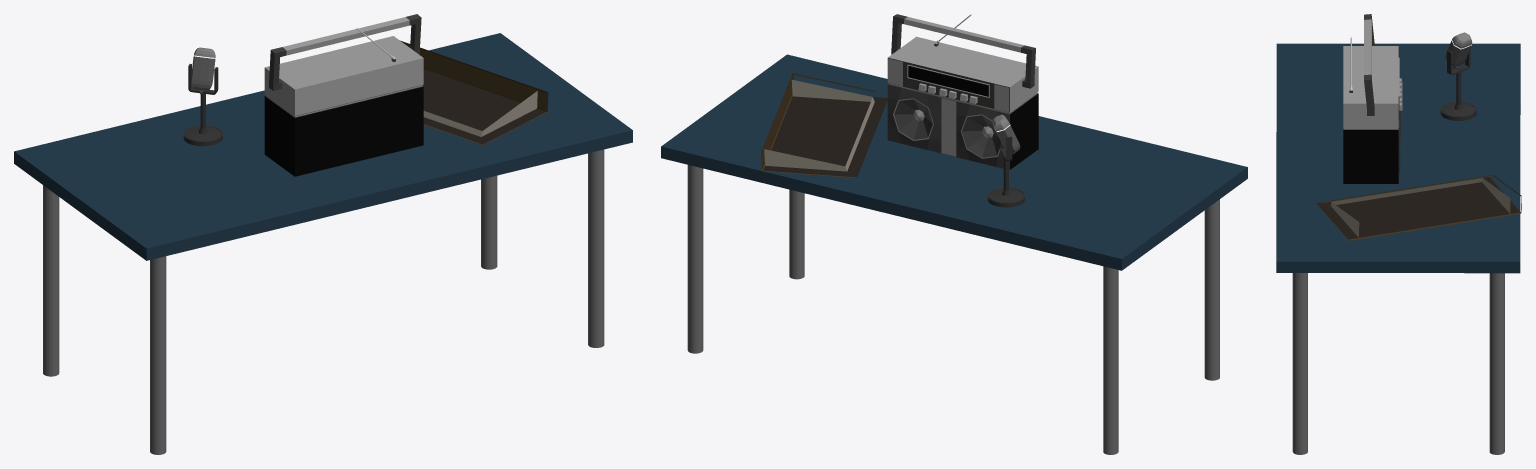
Rendered from 3d_radio_v6.glb.
3 views of the same model, side by side, from view 1: azimuth 30°, elevation 25°; view 2: azimuth 150°, elevation 25°; view 3: azimuth 270°, elevation 25° (orthographic). The views are drawn at different scales.
Parts seen in each view (by area): view 1: Table, Radio, Plane, Microphone; view 2: Table, Radio, Plane, Microphone; view 3: Table, Radio, Plane, Microphone.
Part boxes in pixels (x1,y1,x2,y2): Table: (14, 33, 632, 454); Radio: (264, 14, 423, 176); Plane: (400, 40, 548, 144); Microphone: (183, 47, 222, 146); Table: (661, 54, 1247, 454); Radio: (887, 14, 1038, 170); Plane: (761, 73, 887, 177); Microphone: (987, 114, 1024, 207); Table: (1276, 43, 1520, 454); Radio: (1343, 14, 1402, 183); Plane: (1316, 175, 1521, 240); Microphone: (1440, 32, 1476, 120).
Bounding box in the file's own units: 10.41 × 7.12 × 4.95.
